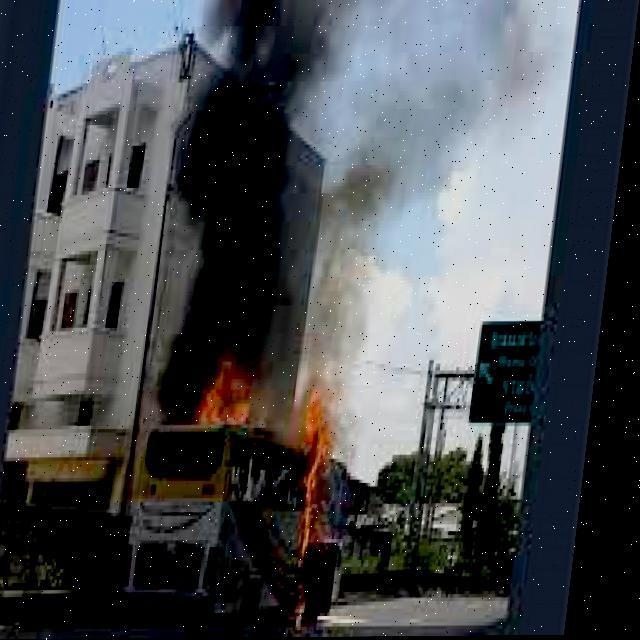Fire: (274, 372, 363, 631), (194, 348, 279, 439)
